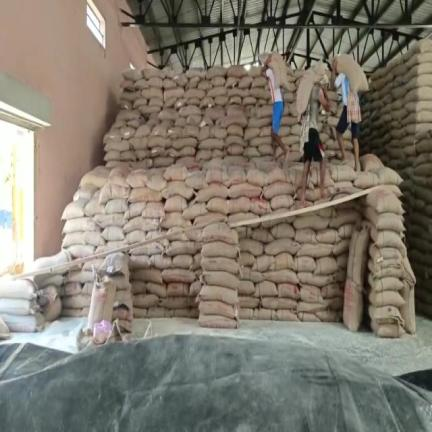Zone-Counting: (296, 62, 329, 206), (331, 54, 368, 169), (261, 53, 288, 159)
